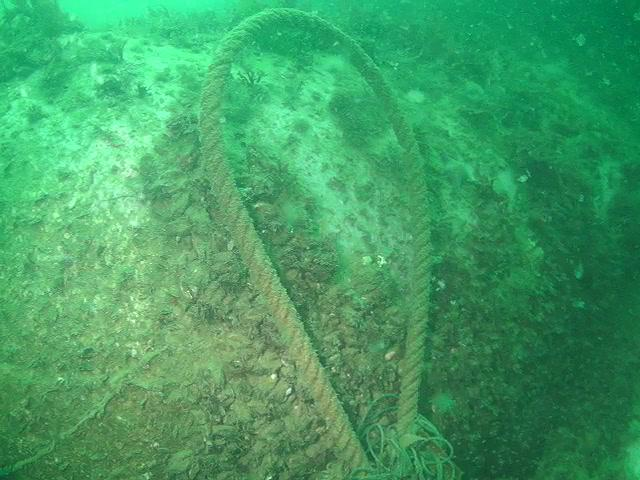rope: (198, 5, 433, 473)
